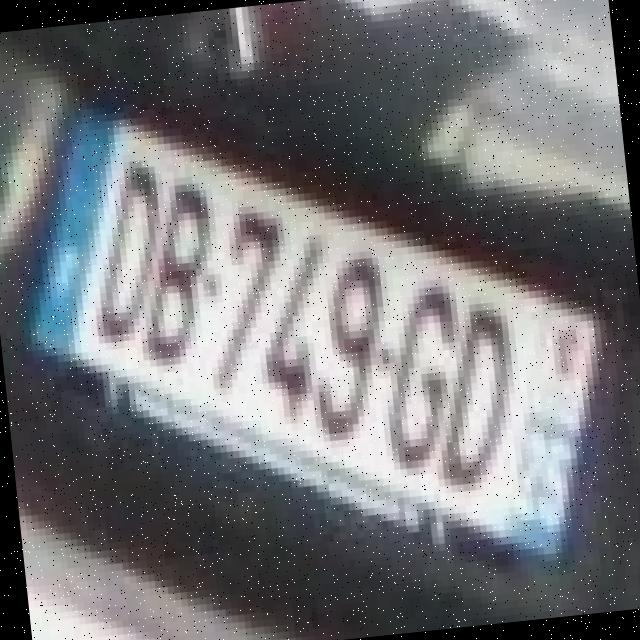Autre: (23, 95, 619, 567)
